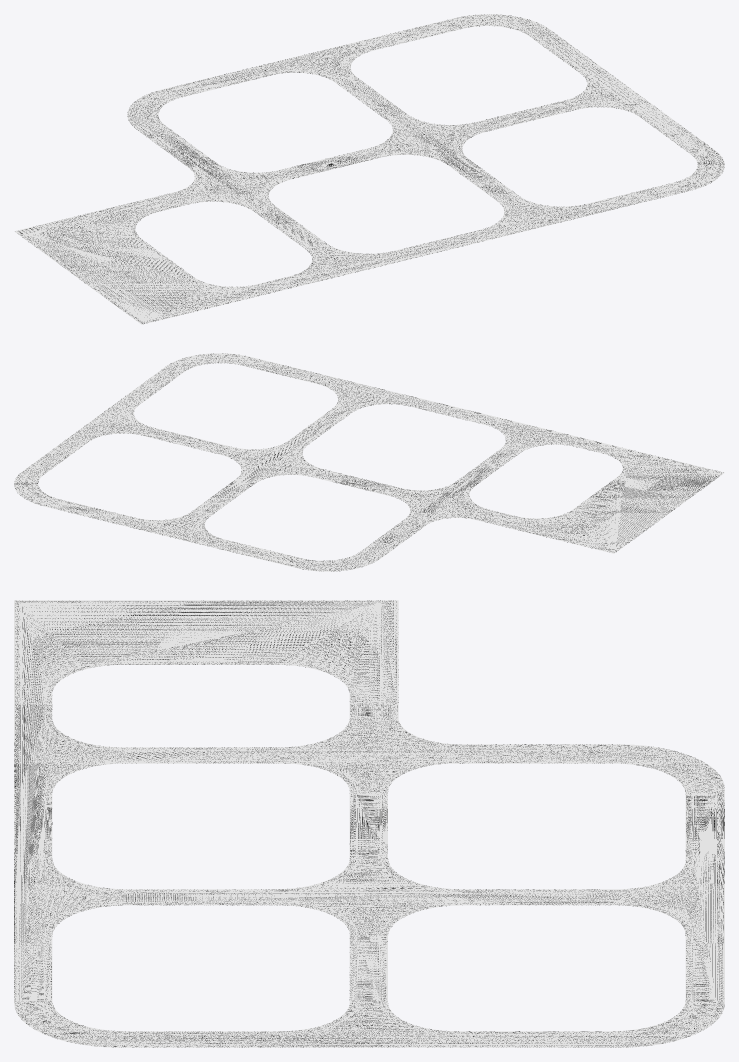
Rendered from Teknofest Robotaxi Pist.dae.
3 views of the same model, one above another, from view 1: azimuth 30°, elevation 25°; view 2: azimuth 150°, elevation 25°; view 3: azimuth 270°, elevation 25° (orthographic). The views are drawn at different scales.
Visible parts, largest first — view 1: group_0 (×8); view 2: group_0 (×8); view 3: group_0 (×13).
Part boxes in pixels (bbox=[...]): group_0 (×8): bbox=[14, 14, 724, 324]; group_0 (×8): bbox=[14, 353, 724, 571]; group_0 (×13): bbox=[14, 600, 724, 1047].
Size of the model in its own units: 5989 by 4022 by 1.35e-13.
Materials: 2 (1 with a texture image).
